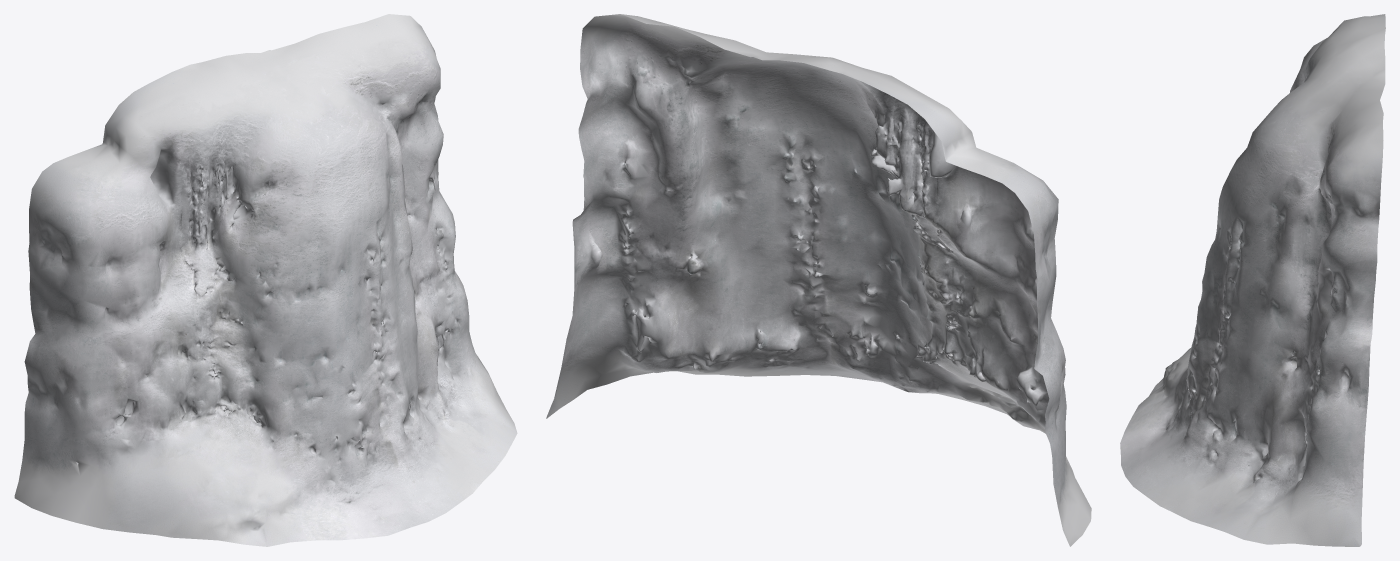
File: Snow1.fbx
The picture shows the model from 3 angles, left to right: view 1: azimuth 30°, elevation 25°; view 2: azimuth 150°, elevation 25°; view 3: azimuth 270°, elevation 25°; orthographic projection. The views are drawn at different scales.
Parts seen in each view (by area): view 1: Aset_nature_snow_L_vdsrdd0fa_LOD0; view 2: Aset_nature_snow_L_vdsrdd0fa_LOD0; view 3: Aset_nature_snow_L_vdsrdd0fa_LOD0.
Part boxes in pixels (box(x1,y1,x2,y2)): Aset_nature_snow_L_vdsrdd0fa_LOD0: box(14, 14, 517, 546); Aset_nature_snow_L_vdsrdd0fa_LOD0: box(546, 14, 1091, 546); Aset_nature_snow_L_vdsrdd0fa_LOD0: box(1120, 14, 1385, 546).
Bounding box in the file's own units: 501 × 410 × 247.
1 material, 1 textured.
